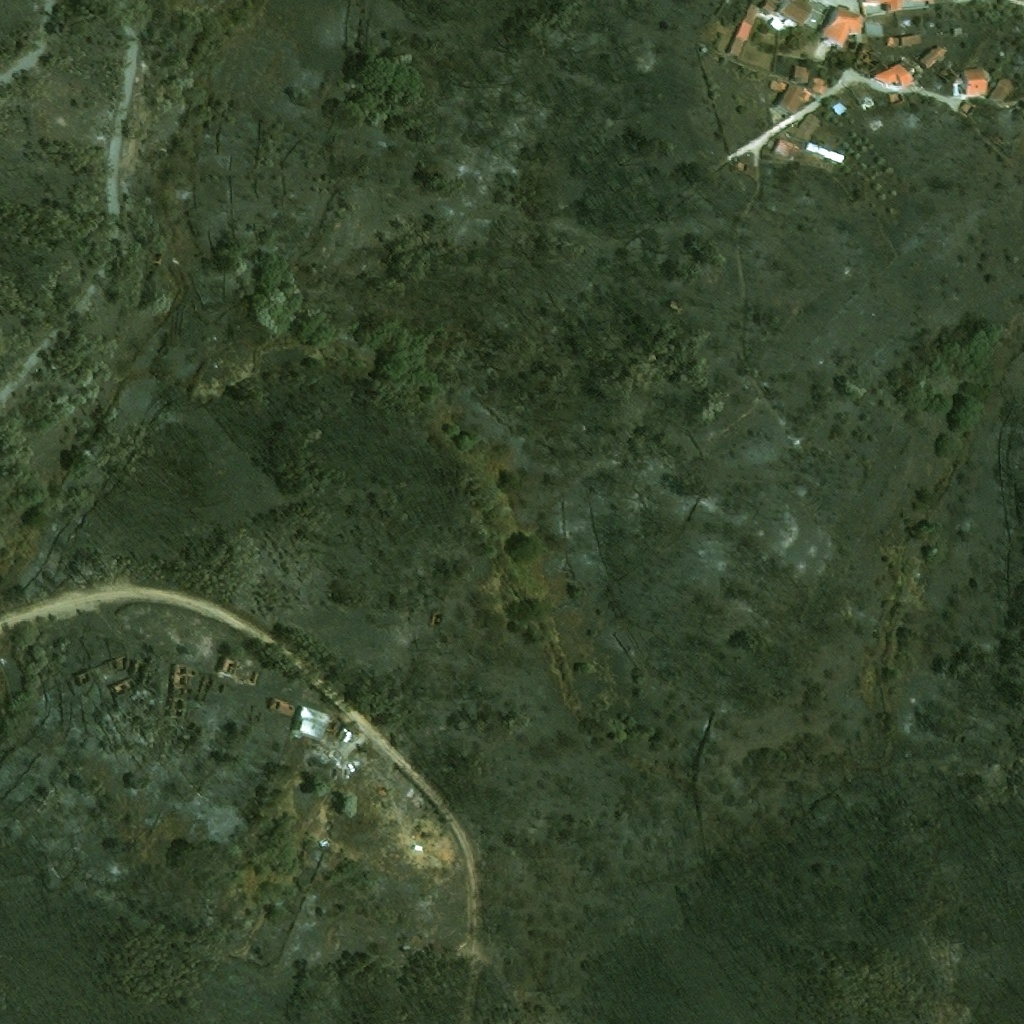0 no-damage: (729, 4, 760, 58), (823, 7, 864, 44), (777, 81, 811, 113), (874, 61, 917, 86), (806, 140, 845, 163), (962, 67, 990, 94), (794, 112, 822, 139), (781, 0, 811, 24), (991, 77, 1014, 103), (813, 42, 832, 62), (827, 97, 847, 115), (811, 76, 829, 92), (878, 0, 904, 11), (794, 65, 809, 81), (769, 78, 785, 93), (763, 0, 780, 13), (341, 732, 352, 744)
1 minor-damage: (920, 44, 947, 67)
2 major-damage: (291, 707, 333, 743), (773, 137, 799, 160)
3 destroyed: (853, 43, 884, 75), (221, 653, 260, 676), (234, 669, 269, 691), (732, 151, 757, 179), (889, 91, 904, 106)
4 un-classified: (856, 0, 879, 8)
